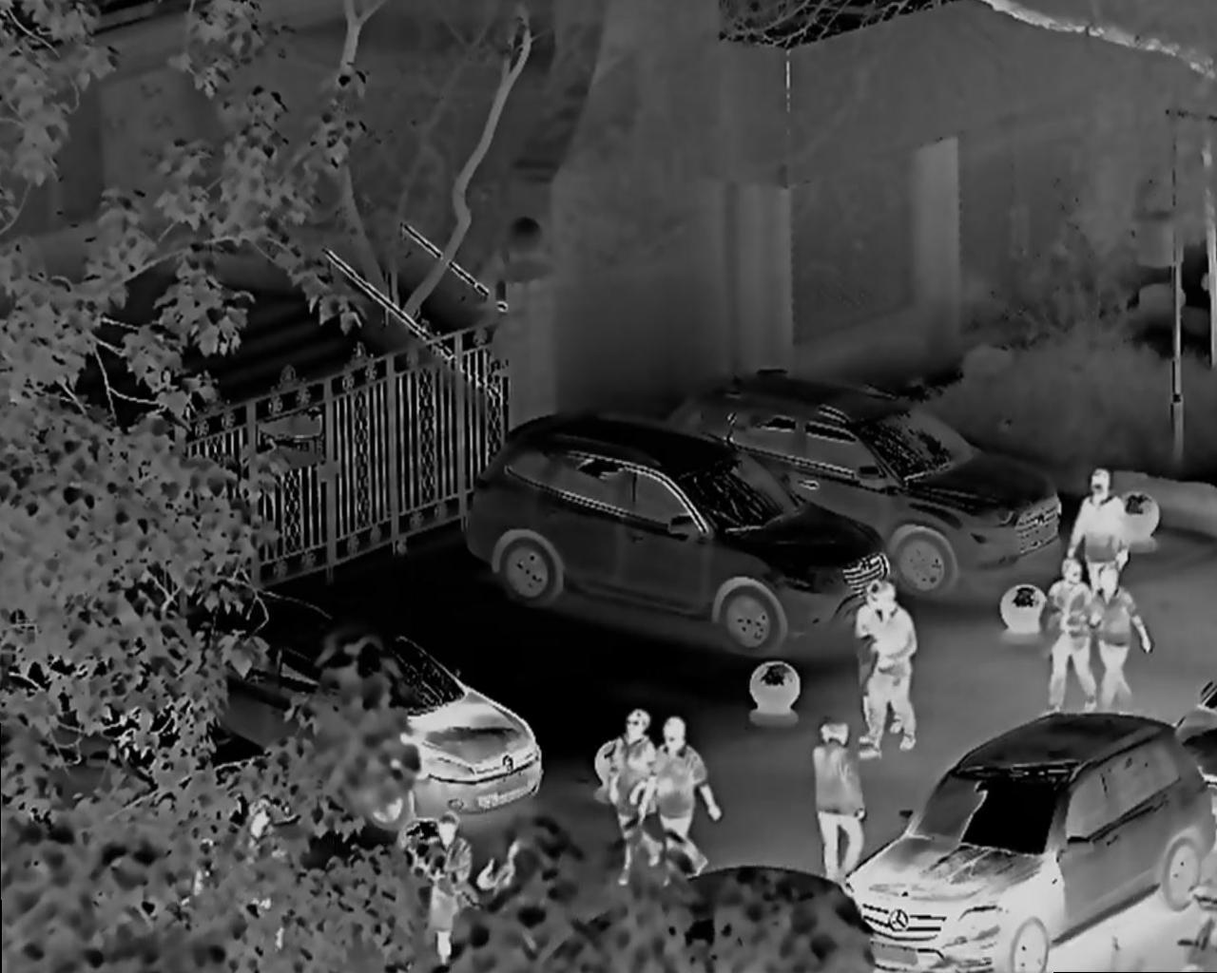person: (859, 592, 921, 768), (652, 719, 718, 863), (805, 712, 863, 861), (1095, 576, 1154, 704), (424, 807, 478, 927), (1046, 557, 1082, 714), (1069, 469, 1129, 563), (608, 707, 644, 844)
